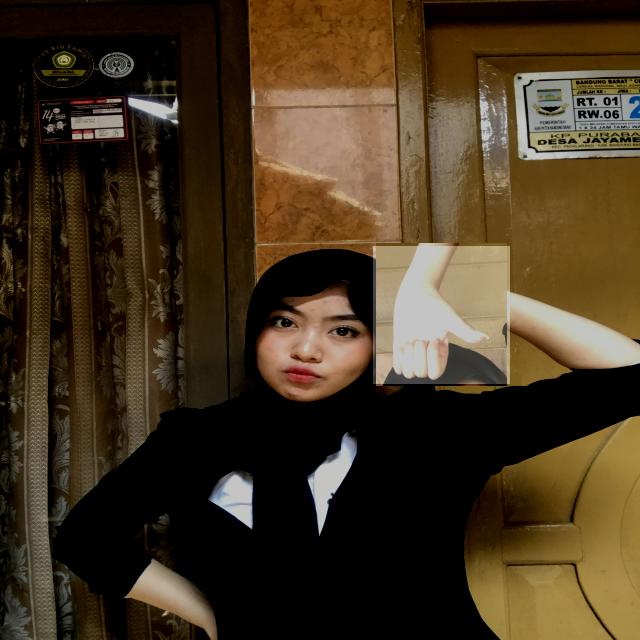sedih: (373, 246, 510, 384)
